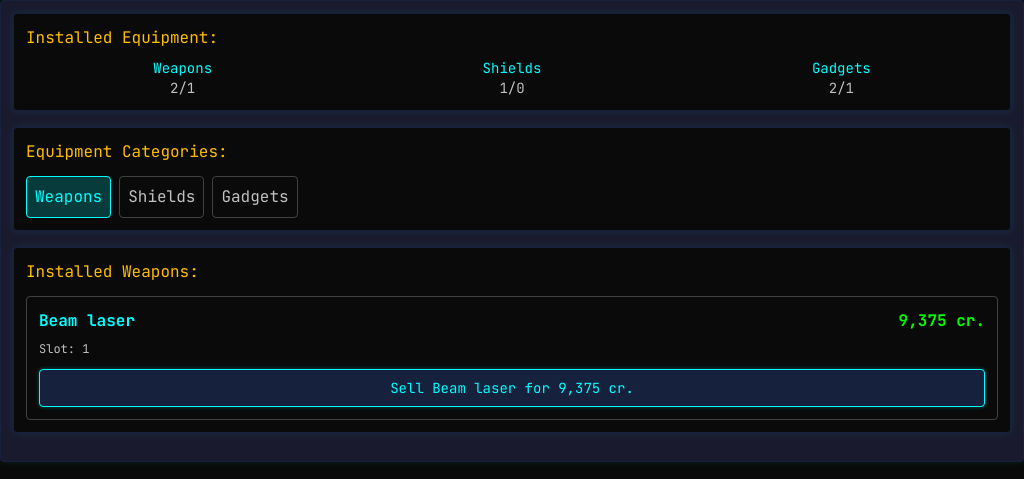
SellEquipmentScreen › should switch between equipment categories
Step 1. Click the button "Shields" → coordinates (162, 197), box [119,176,204,218]
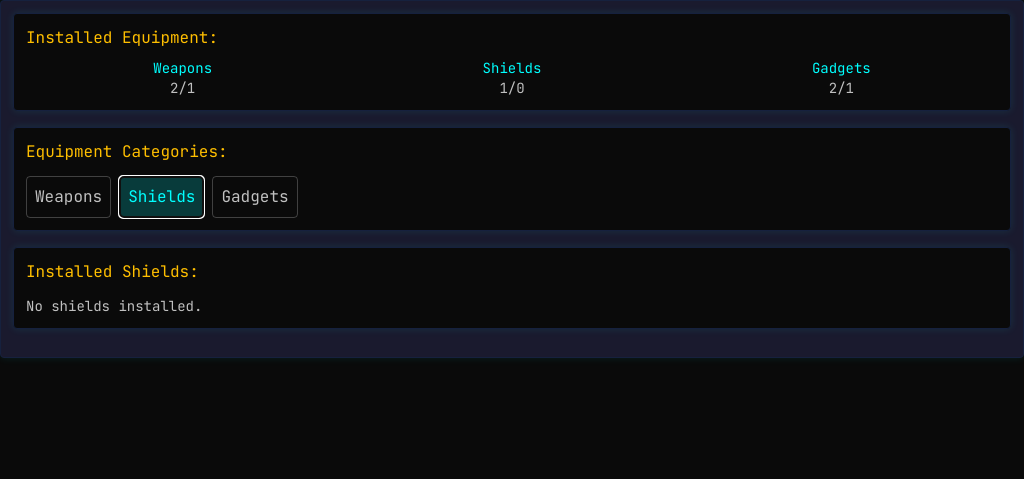
Result: the text "Installed Shields:" is shown at [26,261,199,282]
